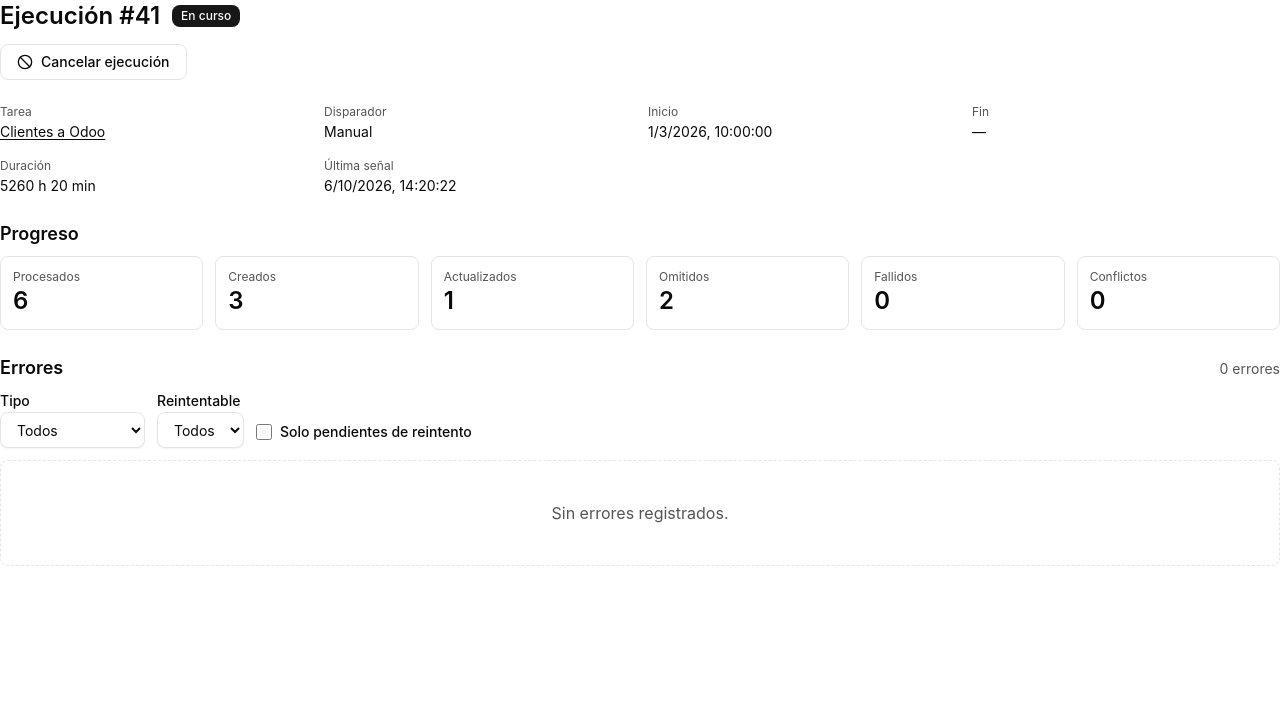
it: RunDetailPage actions › keeps the dialog open and explains a 409 on cancel
Click the button "Cancelar ejecución".
click(93, 62)  # box [0,44,186,80]
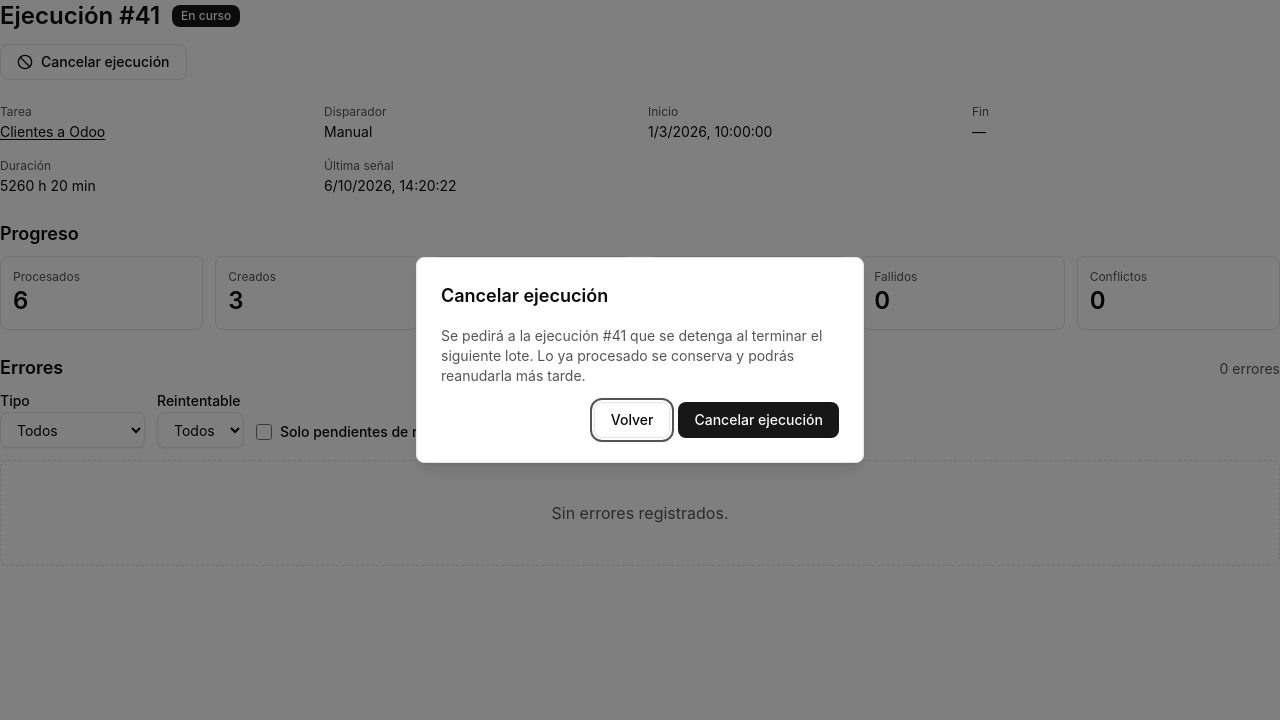
Click the button "Cancelar ejecución".
click(759, 420)  # box [678,402,839,438]
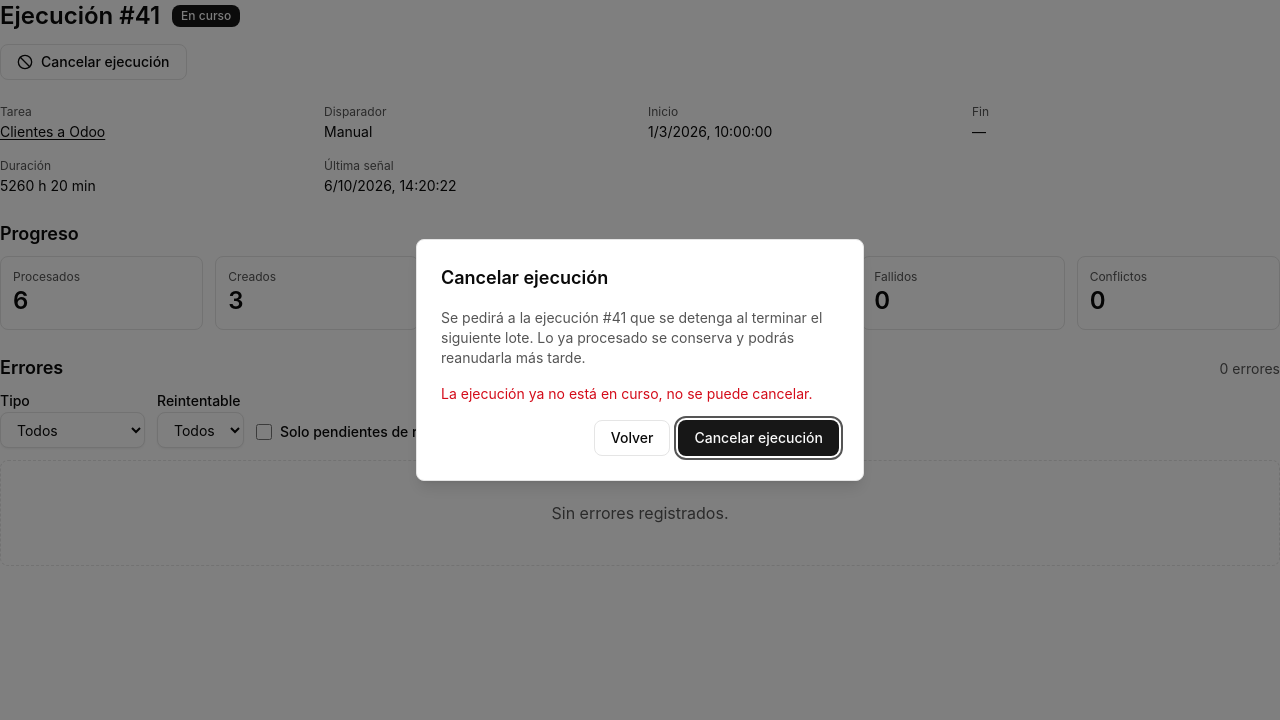
expect the message shows "La ejecución ya no está en curso": met, box [441,385,812,402]
